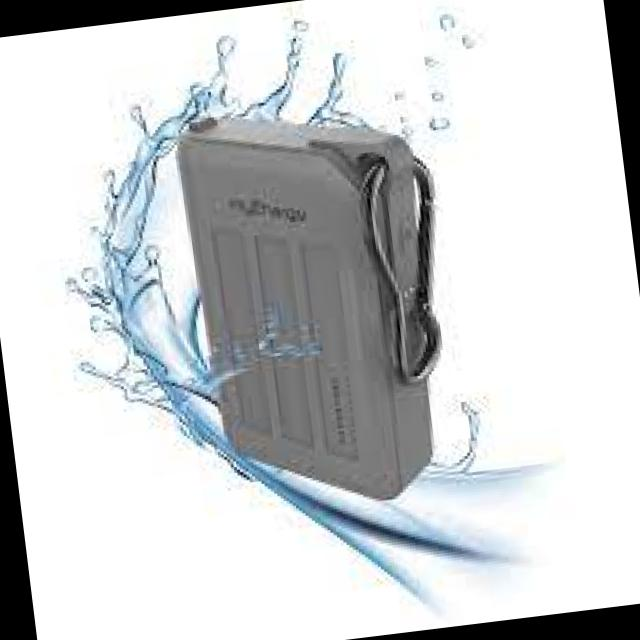portable-charger: (168, 82, 468, 523)
